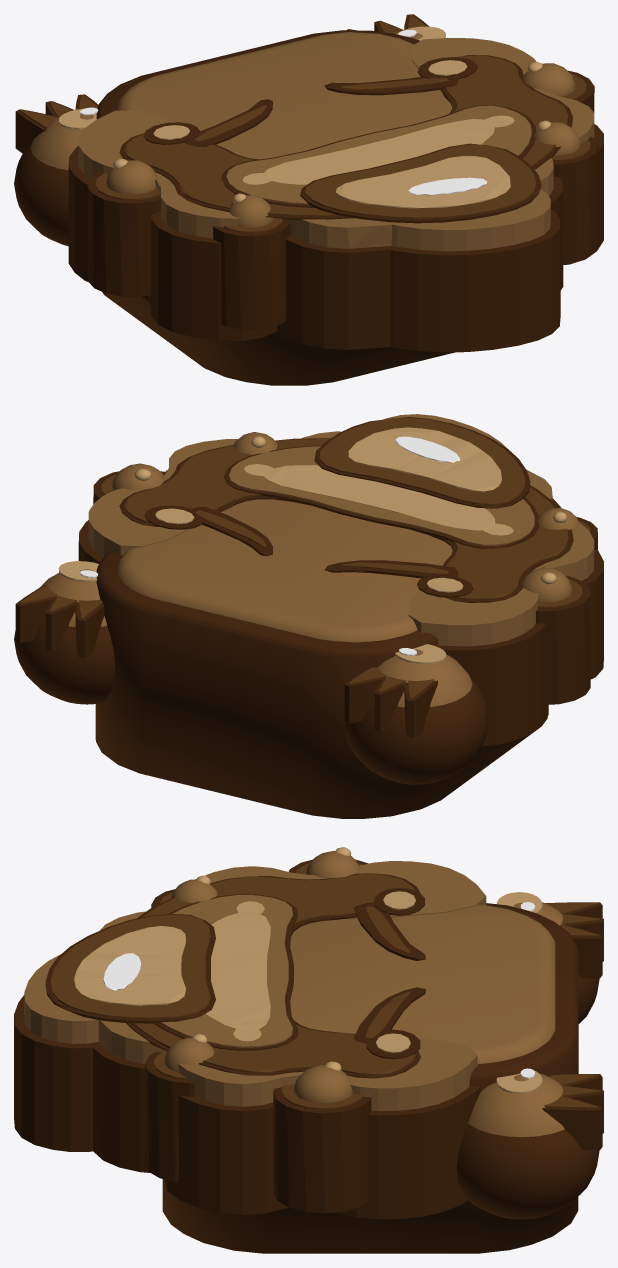
The model's file is body_lama.fbx.
The picture shows the model from 3 angles, top to bottom: view 1: azimuth 30°, elevation 25°; view 2: azimuth 150°, elevation 25°; view 3: azimuth 270°, elevation 25°; orthographic projection. The views are drawn at different scales.
Parts seen in each view (by area): view 1: body_lama_corpo, body_lama_mao_esq, body_lama_mao; view 2: body_lama_corpo, body_lama_mao_esq, body_lama_mao; view 3: body_lama_corpo, body_lama_mao, body_lama_mao_esq.
Part boxes in pixels (<box>): body_lama_corpo: <box>68,30,603,385</box>; body_lama_mao_esq: <box>14,94,98,246</box>; body_lama_mao: <box>346,14,445,40</box>; body_lama_corpo: <box>78,414,603,818</box>; body_lama_mao_esq: <box>344,644,488,784</box>; body_lama_mao: <box>14,561,115,704</box>; body_lama_corpo: <box>14,847,578,1253</box>; body_lama_mao: <box>456,1068,603,1219</box>; body_lama_mao_esq: <box>496,892,603,1023</box>.
Bounding box in the file's own units: 5.81 × 2.18 × 5.66.
Materials: 1 (1 with a texture image).
